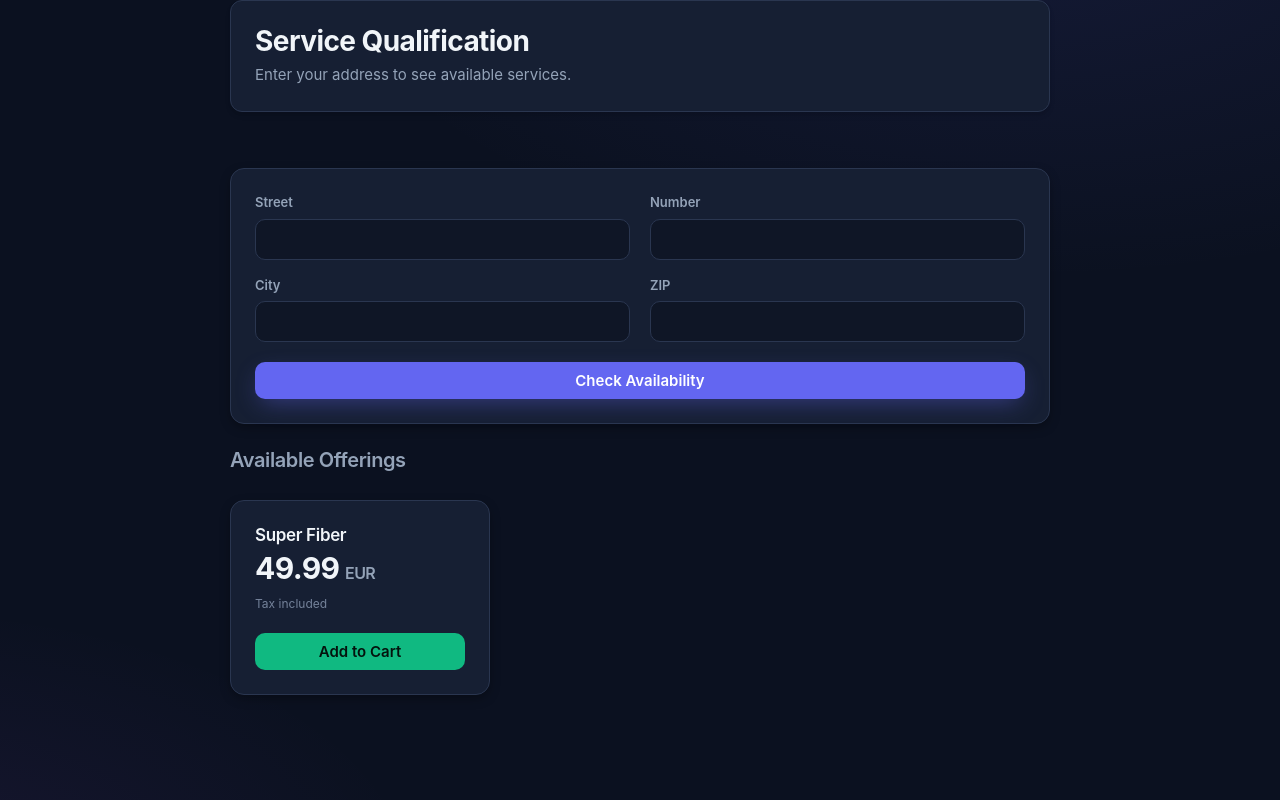
Test: QualifyPage › dismisses session expired banner when dismiss button is clicked
What coordinates should you click on to do the following:
click the button "Add to Cart"
I would click on:
 (360, 651)
Its box is [255,633,465,670].
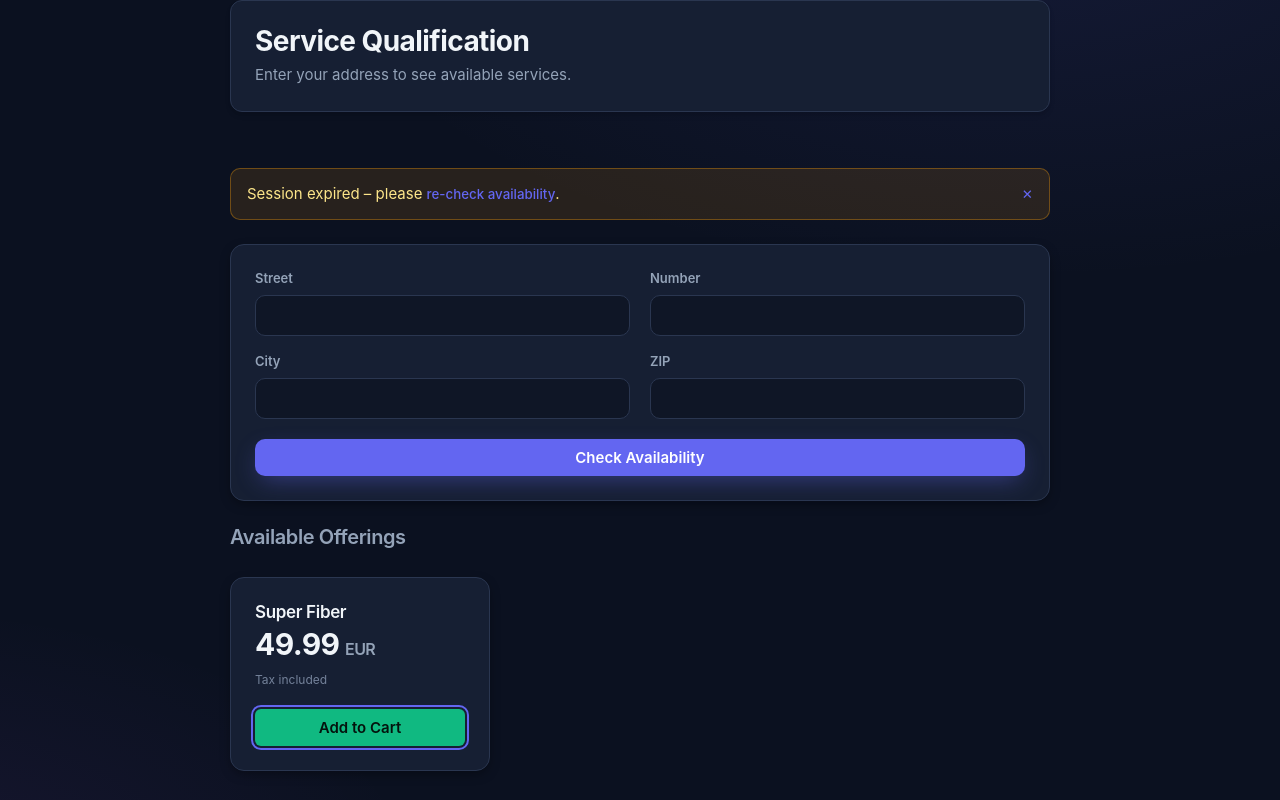
Expected: the message "Session expired – please re-check availability . ✕" is shown, [230,168,1050,220]
What coordinates should you click on to do the following:
click the button named "Dismiss"
I would click on:
 (1027, 194)
Its box is [1022,186,1033,202].
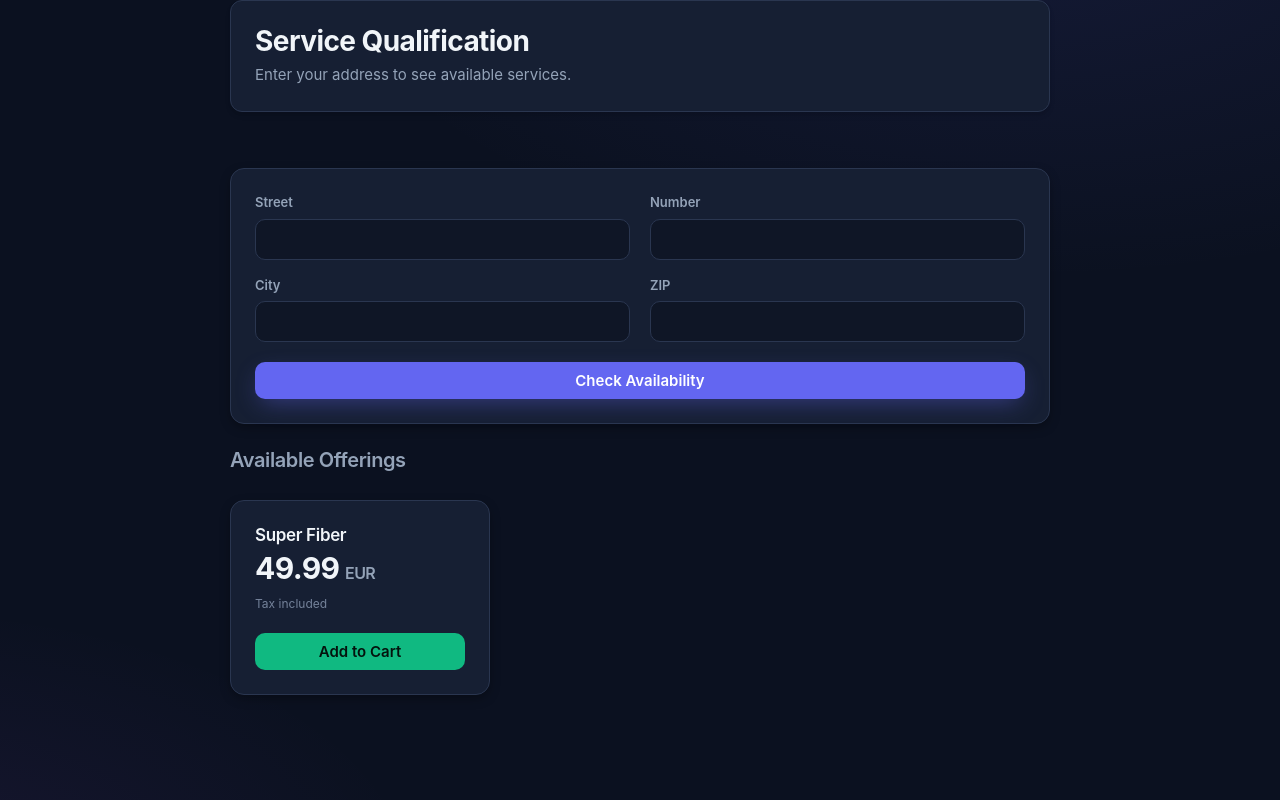
Expected: the message "Session expired – please re-check availability . ✕" is gone
